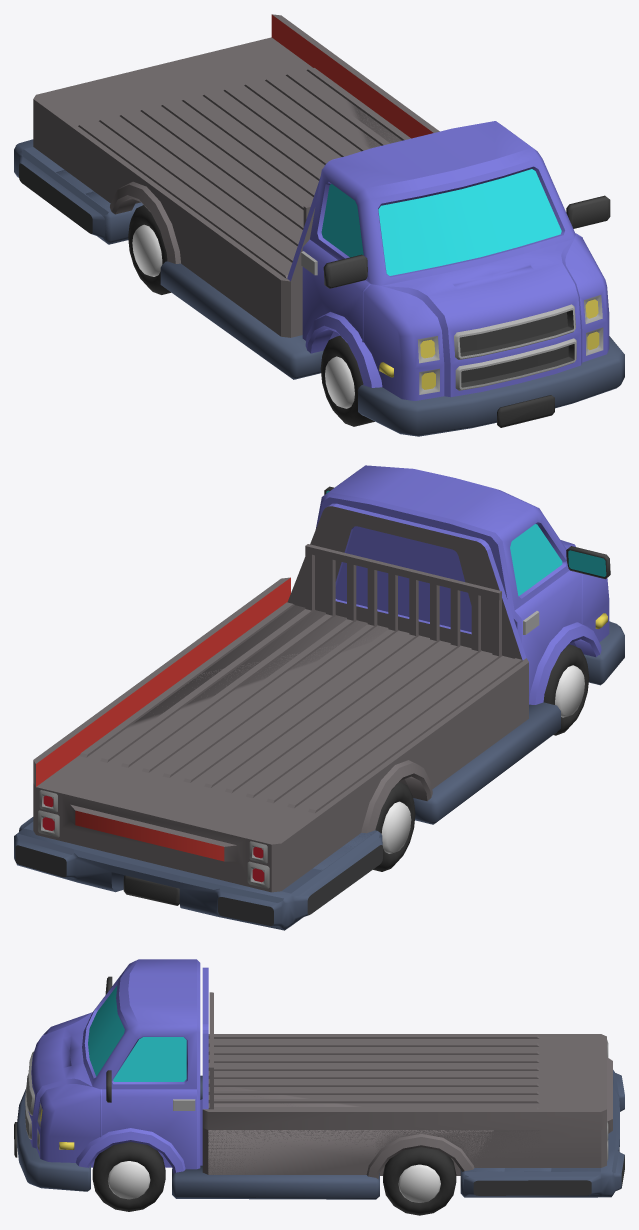
Rendered from kamyon.fbx.
The picture shows the model from 3 angles, top to bottom: view 1: azimuth 30°, elevation 25°; view 2: azimuth 150°, elevation 25°; view 3: azimuth 270°, elevation 25°; orthographic projection. The views are drawn at different scales.
Parts seen in each view (by area): view 1: kamyon, kasaOrta, kasaKisa, kasaUzun, tekerler; view 2: kasaUzun, kasaOrta, kasaKisa, kamyon, tekerler; view 3: kamyon, kasaUzun, kasaOrta, kasaKisa, tekerler.
Part boxes in pixels (x1=…): kamyon: x1=110, y1=121, x2=624, y2=436; kasaOrta: x1=56, y1=65, x2=410, y2=335; kasaKisa: x1=85, y1=89, x2=401, y2=337; kasaUzun: x1=14, y1=14, x2=439, y2=281; tekerler: x1=128, y1=205, x2=374, y2=426; kasaUzun: x1=14, y1=503, x2=526, y2=930; kasaOrta: x1=75, y1=544, x2=528, y2=870; kasaKisa: x1=111, y1=605, x2=528, y2=847; kamyon: x1=315, y1=465, x2=624, y2=833; tekerler: x1=373, y1=644, x2=589, y2=871; kamyon: x1=14, y1=959, x2=474, y2=1199; kasaUzun: x1=202, y1=967, x2=624, y2=1197; kasaOrta: x1=208, y1=992, x2=551, y2=1195; kasaKisa: x1=202, y1=1034, x2=504, y2=1196; tekerler: x1=92, y1=1142, x2=456, y2=1215.
Bounding box in the file's own units: 290 × 217 × 667.
